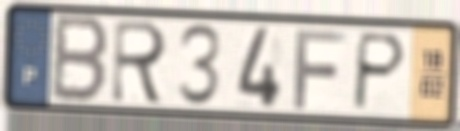3: (176, 21, 224, 108)
4: (234, 24, 284, 112)
B: (48, 12, 112, 107)
F: (291, 26, 349, 112)
P: (349, 29, 410, 113)
R: (109, 18, 171, 108)
